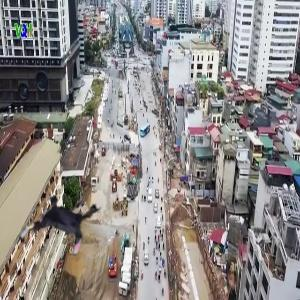drone: (23, 185, 101, 263)
